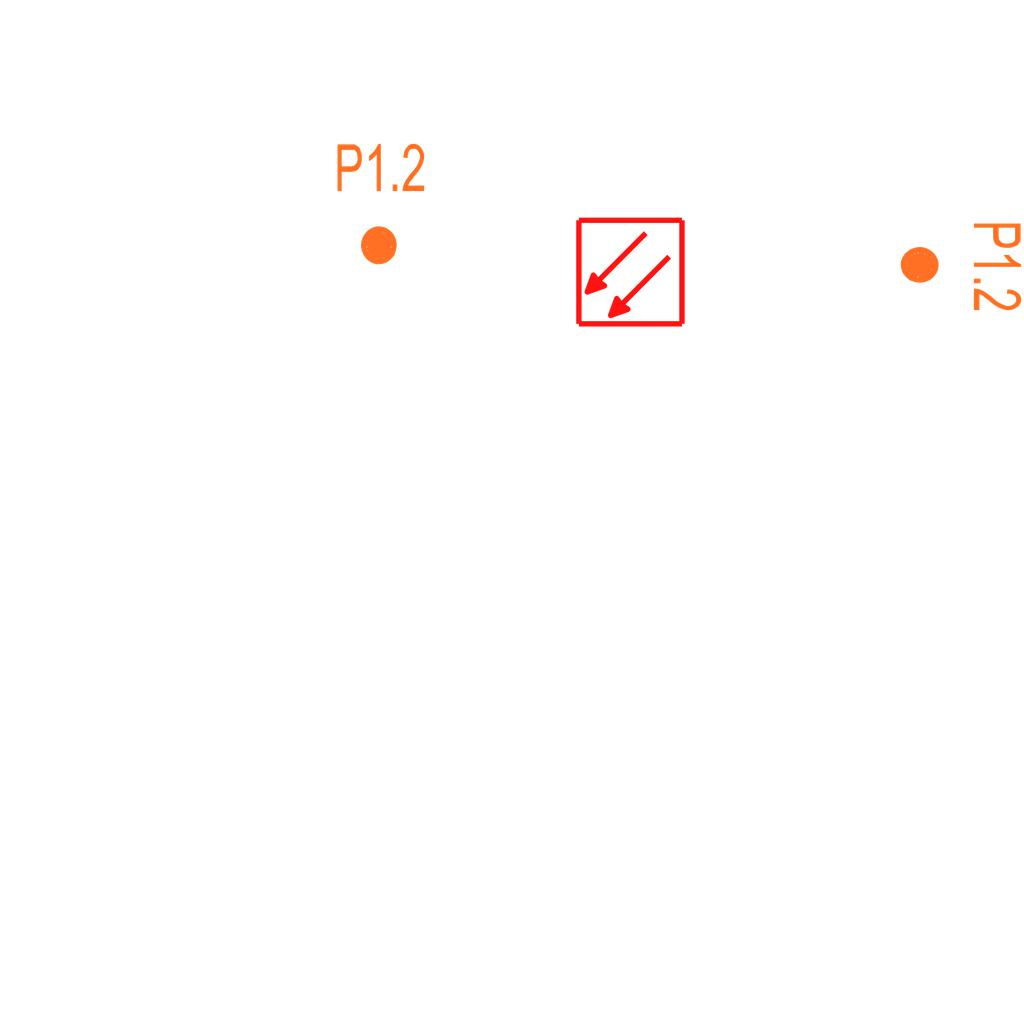Downlight_LED_Einbauleuchten_Flur: (334, 140, 427, 268), (897, 220, 1024, 313)
RMO_Rauchmelder_optischer: (574, 216, 687, 329)
